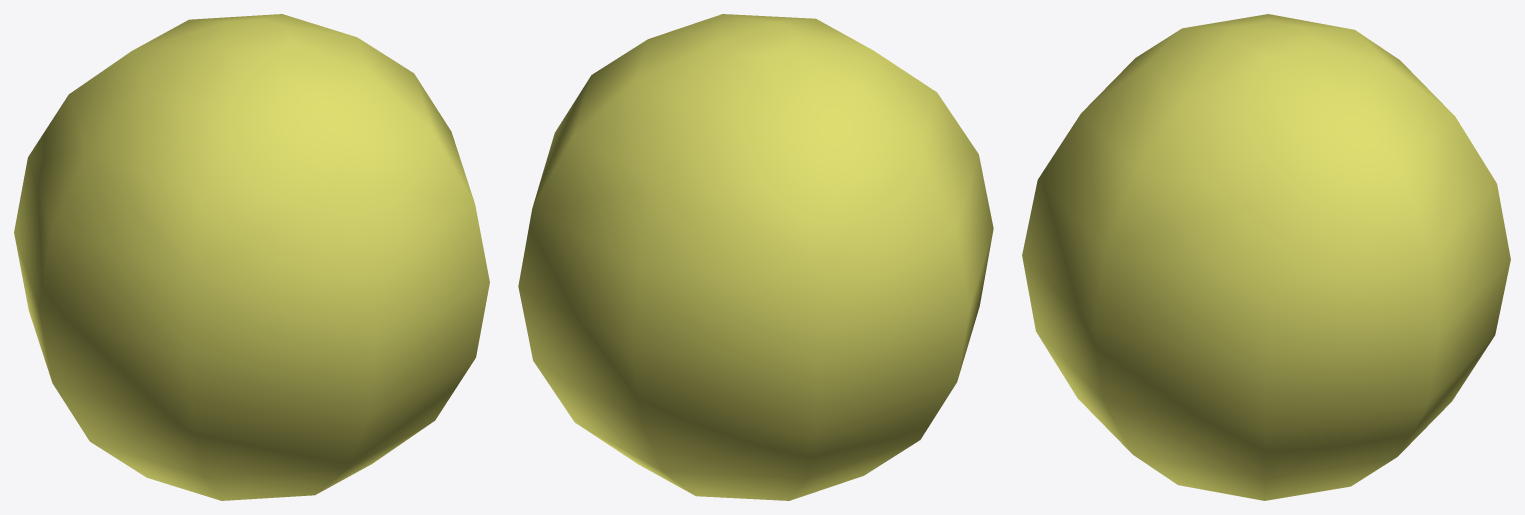
The model's file is ateb.hrc.gltf.
The picture shows the model from 3 angles, left to right: view 1: azimuth 30°, elevation 25°; view 2: azimuth 150°, elevation 25°; view 3: azimuth 270°, elevation 25°; orthographic projection.
Parts seen in each view (by area): view 1: atebBone0_null; view 2: atebBone0_null; view 3: atebBone0_null.
Part boxes in pixels (x1,y1,x2,y2): atebBone0_null: (14, 14, 489, 500); atebBone0_null: (518, 14, 993, 500); atebBone0_null: (1022, 14, 1510, 500).
Bounding box in the file's own units: 4.65 × 4.59 × 4.65.
